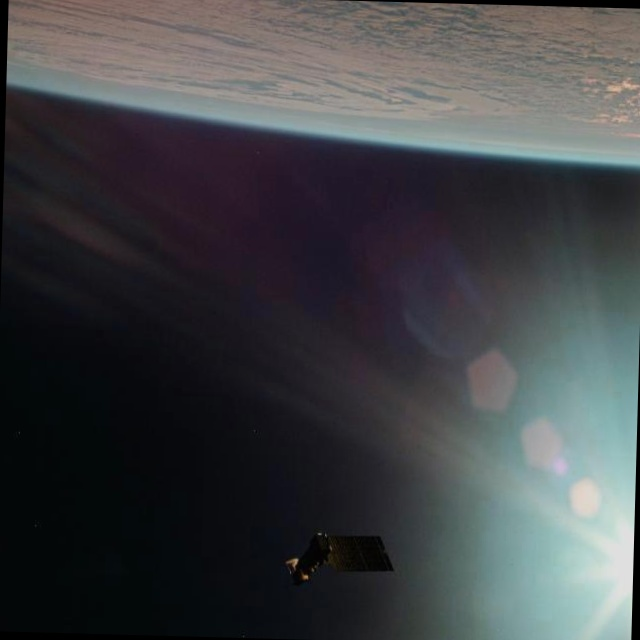satellite: (264, 521, 403, 595)
